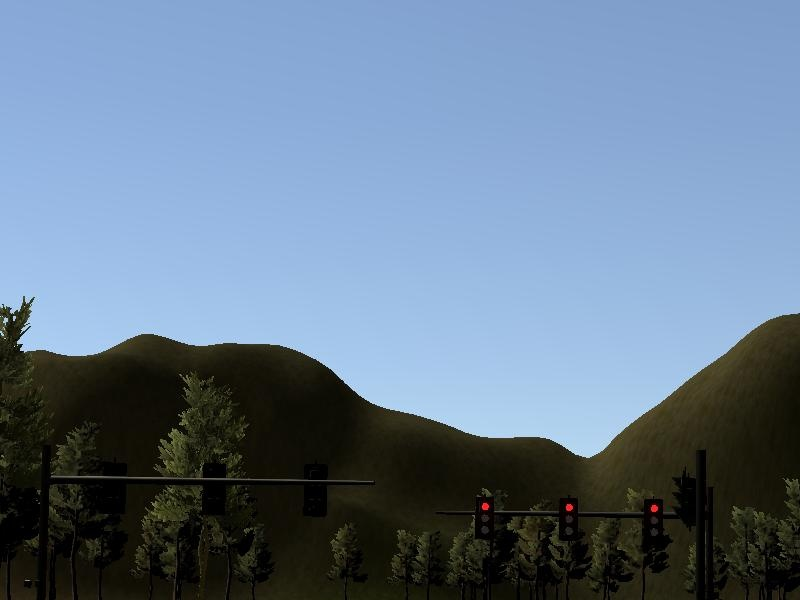red: (559, 499, 580, 542), (644, 499, 664, 543), (475, 496, 495, 540)
